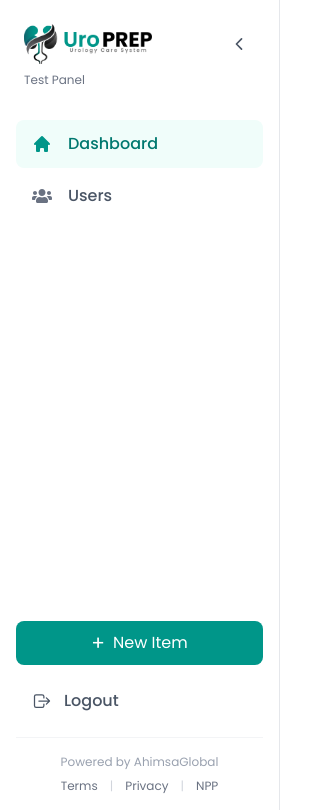
Test: BaseSidebar › toggles collapsed state
This screenshot has width=320, height=810.
What coordinates should you click on to do the following:
click the button named "Collapse sidebar"
I would click on:
 (239, 44)
Its box is [223, 28, 255, 60].
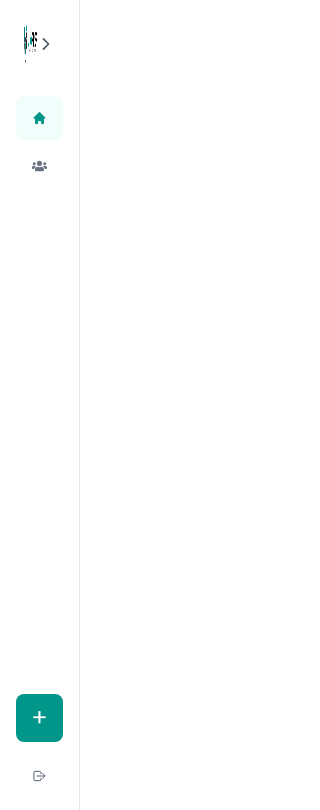
Now the text "Test Panel" is gone
What coordinates should you click on to do the following:
click the button named "Expand sidebar"
I would click on:
 (46, 44)
Its box is [37, 28, 55, 60].
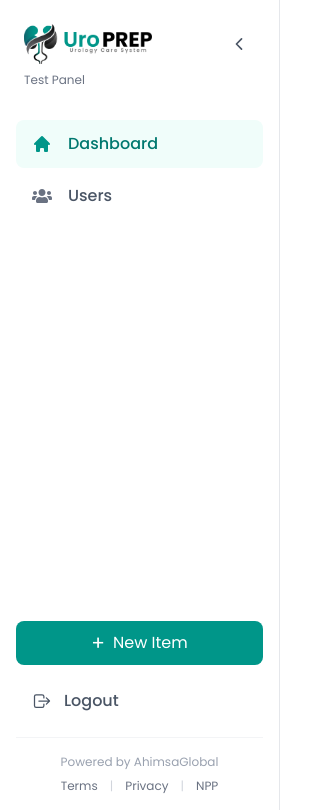
Now the text "Test Panel" is shown, box [24, 71, 85, 88]
